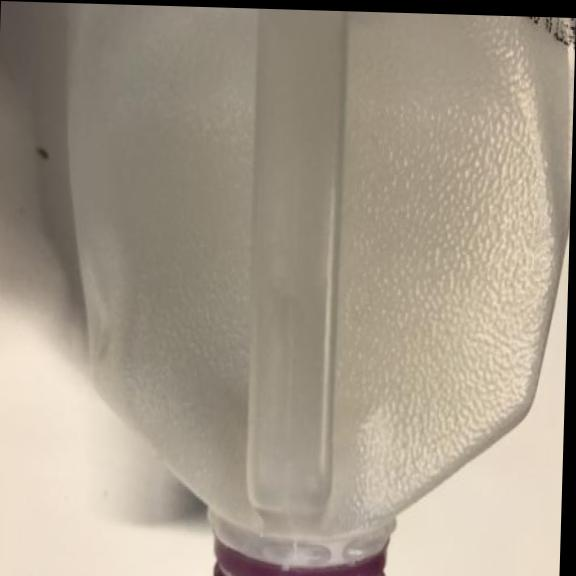Plastik: (45, 2, 576, 576)
